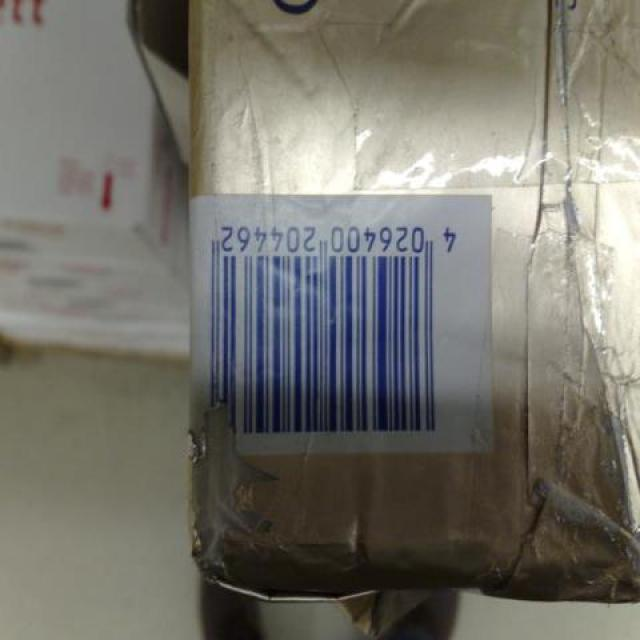Barcode: (196, 209, 479, 455)
